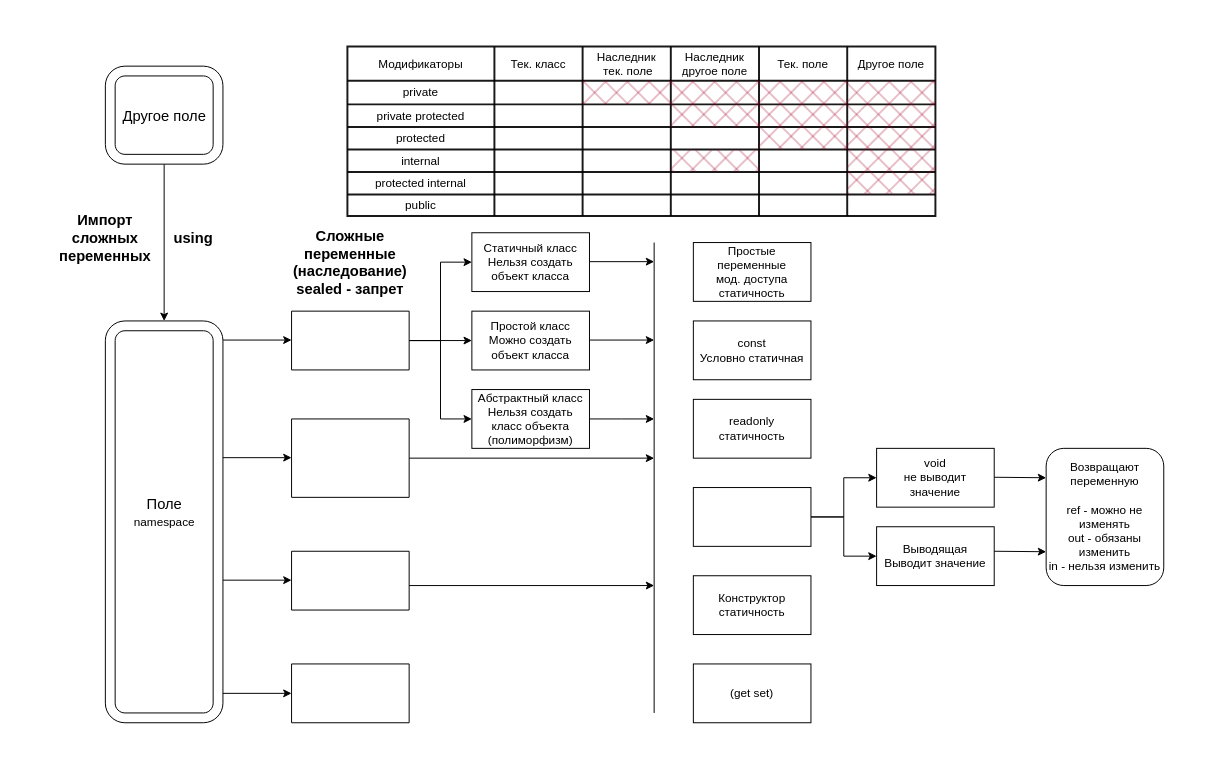
This 1210x769 diagram has some shape labels left out. Here are the shapes that lost their labels. From the top down, the box of each, then its label:
(291, 310, 409, 370): Классы Мод. доступа Ссылочный тип readonly
(291, 418, 409, 497): Структуры Мод доступа Тип значений readonly Нет наследования
(692, 487, 811, 546): Функции мод. доступа статичность
(291, 550, 409, 610): Интерфесы Ссылочный тип (плиморфизм)
(291, 663, 409, 723): Энамы Тип значений Создание без new
